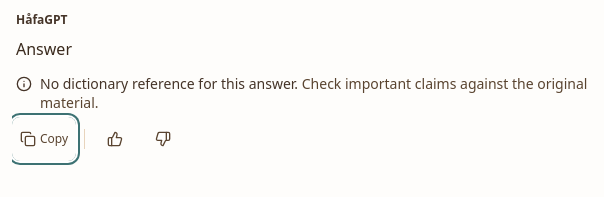
message actions › reports failed copying instead of claiming success and restores focus
Click the button with aria-label "Copy message". click: [44, 138]
box: [12, 116, 76, 160]
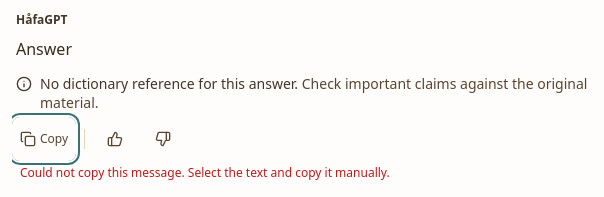
Expected: the message shows "Could not copy this message.", [20, 164, 390, 180]
